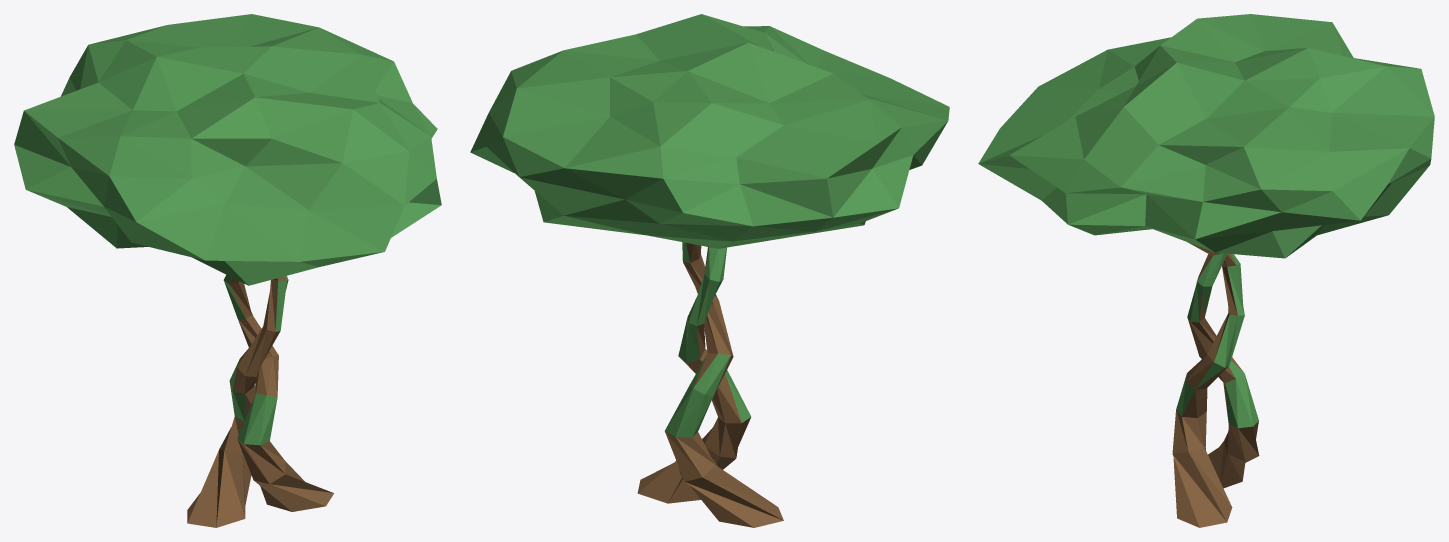
File: tree3d-110.glb
3 renders of one model, left to right at view 1: azimuth 30°, elevation 25°; view 2: azimuth 150°, elevation 25°; view 3: azimuth 270°, elevation 25°, orthographic. The views are drawn at different scales.
Visible parts, largest first — view 1: tree3d-110; view 2: tree3d-110; view 3: tree3d-110.
Part boxes in pixels (x1,y1,x2,y2): tree3d-110: (14, 14, 441, 527); tree3d-110: (470, 14, 949, 527); tree3d-110: (978, 14, 1434, 527).
Bounding box in the file's own units: 0.9265 × 1 × 0.9817.
